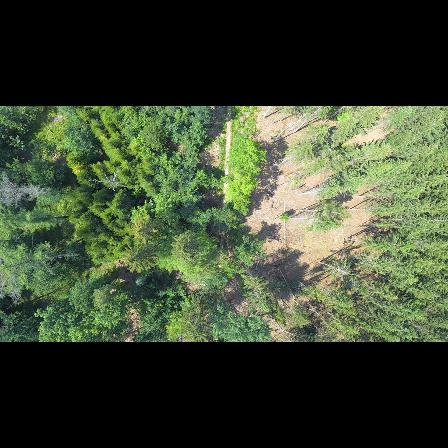Dead: (0, 175, 52, 203), (86, 172, 129, 193)
